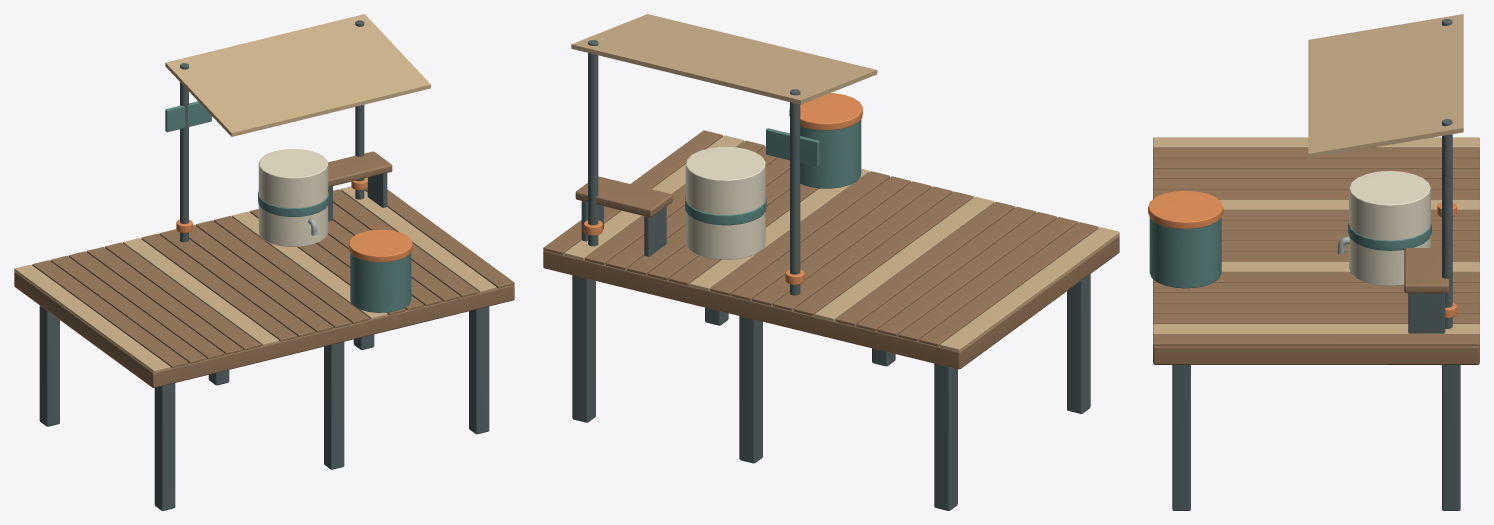
File: NW1_Waystation.fbx
3 views of the same model, side by side, from view 1: azimuth 30°, elevation 25°; view 2: azimuth 150°, elevation 25°; view 3: azimuth 270°, elevation 25° (orthographic). The views are drawn at different scales.
Parts seen in each view (by area): view 1: NW1_Waystation_NW1_Wood, NW1_Waystation_NW1_Canvas, NW1_Waystation_NW1_Frame, NW1_Waystation_NW1_Ivory, NW1_Waystation_NW1_Teal, NW1_Waystation_NW1_Orange; view 2: NW1_Waystation_NW1_Wood, NW1_Waystation_NW1_Canvas, NW1_Waystation_NW1_Frame, NW1_Waystation_NW1_Ivory, NW1_Waystation_NW1_Teal, NW1_Waystation_NW1_Orange; view 3: NW1_Waystation_NW1_Wood, NW1_Waystation_NW1_Canvas, NW1_Waystation_NW1_Frame, NW1_Waystation_NW1_Ivory, NW1_Waystation_NW1_Teal, NW1_Waystation_NW1_Orange.
Part boxes in pixels (x1,y1,x2,y2): NW1_Waystation_NW1_Wood: [14, 151, 514, 387]; NW1_Waystation_NW1_Canvas: [14, 14, 496, 372]; NW1_Waystation_NW1_Frame: [39, 20, 489, 510]; NW1_Waystation_NW1_Ivory: [258, 149, 328, 246]; NW1_Waystation_NW1_Teal: [165, 101, 411, 312]; NW1_Waystation_NW1_Orange: [176, 178, 412, 262]; NW1_Waystation_NW1_Wood: [543, 130, 1119, 369]; NW1_Waystation_NW1_Canvas: [564, 14, 1119, 351]; NW1_Waystation_NW1_Frame: [572, 40, 1090, 510]; NW1_Waystation_NW1_Ivory: [685, 146, 765, 259]; NW1_Waystation_NW1_Teal: [685, 119, 861, 225]; NW1_Waystation_NW1_Orange: [583, 93, 862, 284]; NW1_Waystation_NW1_Wood: [1153, 147, 1479, 364]; NW1_Waystation_NW1_Canvas: [1153, 14, 1479, 334]; NW1_Waystation_NW1_Frame: [1172, 19, 1460, 510]; NW1_Waystation_NW1_Ivory: [1349, 171, 1430, 285]; NW1_Waystation_NW1_Teal: [1149, 217, 1431, 288]; NW1_Waystation_NW1_Orange: [1148, 190, 1456, 317].
Size of the model in its own units: 6 by 5.18 by 4.06.
